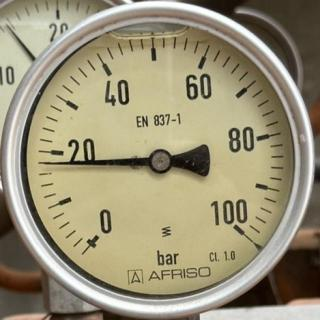gauge: (0, 0, 320, 320), (205, 196, 263, 252), (70, 205, 122, 263), (147, 146, 173, 176), (36, 158, 56, 170), (1, 21, 15, 34)
